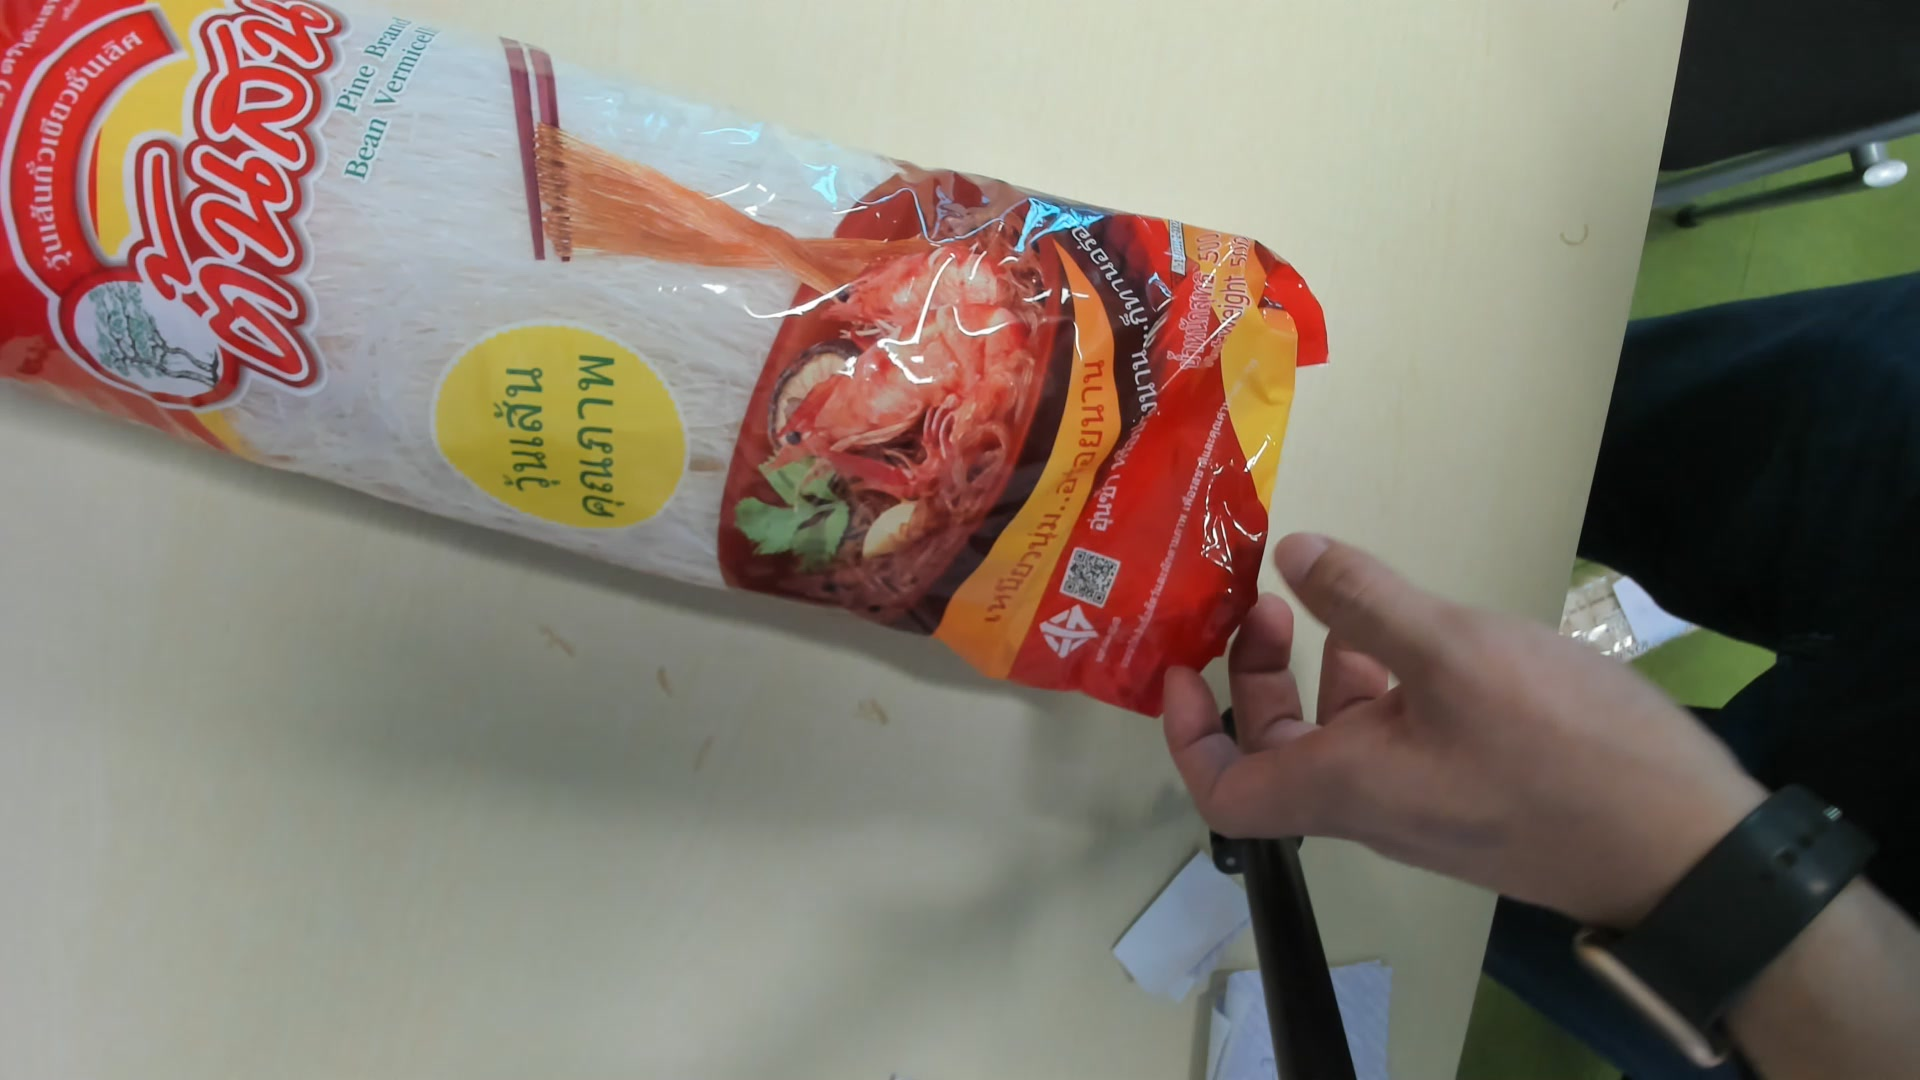BeeHoonVermicelli_500-599g_Halal_NonHealthy: (3, 3, 1327, 723)
